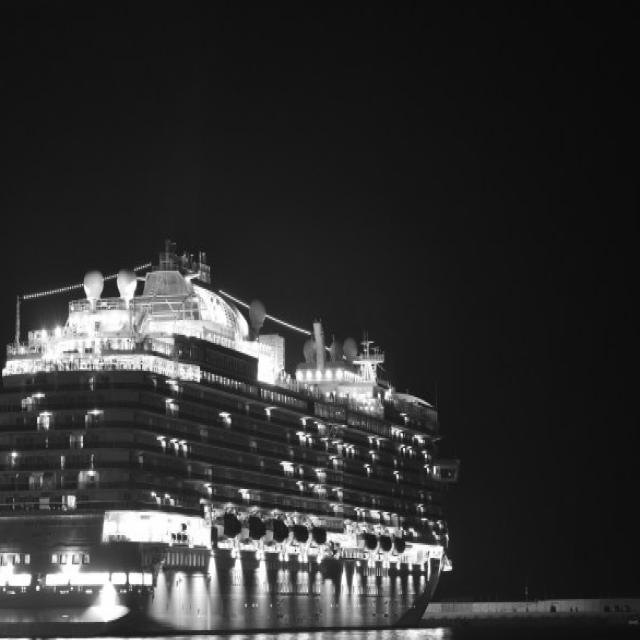cruises: (1, 227, 465, 640)
